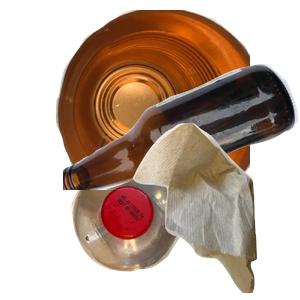glass: (63, 62, 300, 242)
metal: (53, 10, 293, 190)
plastic: (69, 161, 245, 300)
trash: (131, 120, 300, 300)
